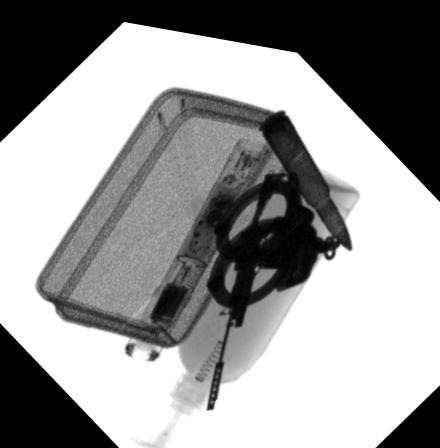Baton: (121, 131, 274, 356)
Bullet: (259, 96, 352, 243)
Gun: (206, 161, 288, 405)
HandCuffs: (206, 168, 341, 302)
